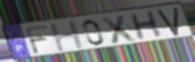0: (82, 19, 105, 47)
F: (24, 24, 50, 55)
H: (48, 19, 86, 53), (127, 9, 164, 42)
V: (156, 6, 181, 37)
X: (100, 13, 140, 45)
